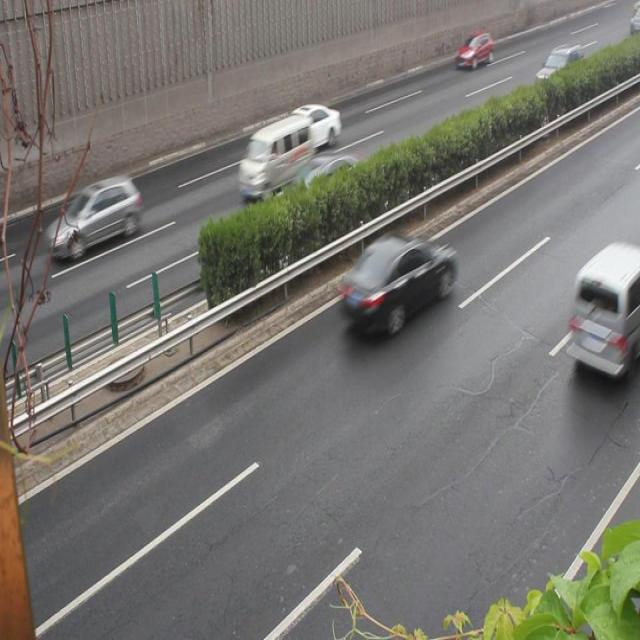car: (340, 234, 453, 330), (48, 175, 140, 261), (276, 155, 364, 234), (272, 102, 342, 152), (535, 44, 582, 94), (454, 30, 493, 71)
truck: (566, 240, 640, 379), (237, 115, 311, 200)
